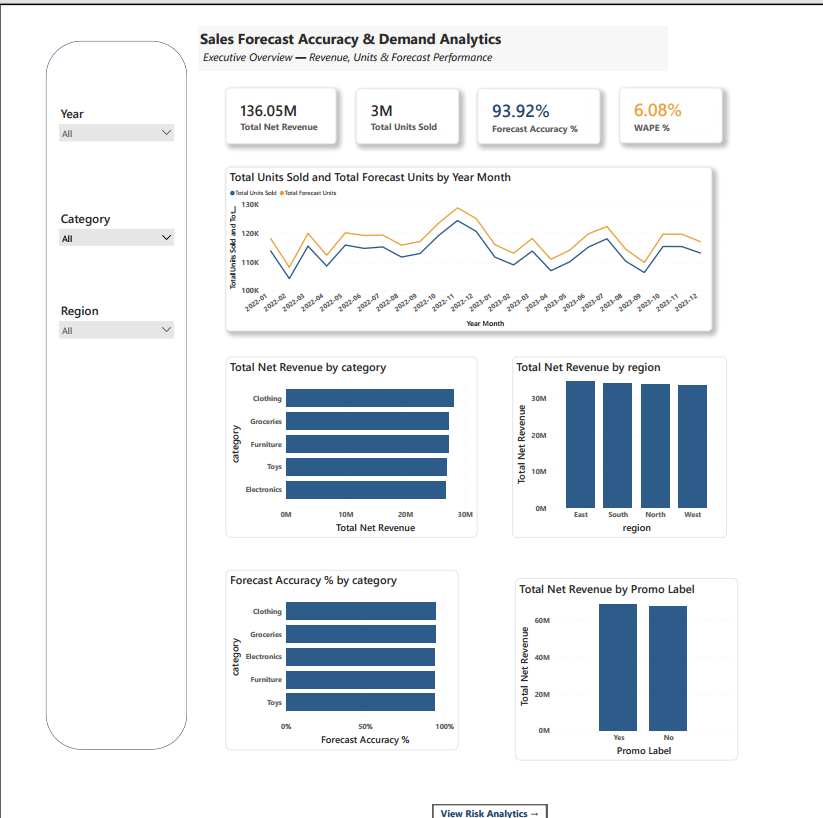

The dashboard page shown, as its layout file describes it:
{"tool":"powerbi","page":{"name":"Page 1","canvas":[2000,2000],"ordinal":0},"visuals":[{"type":"shape","box":[101.8,71.4,314.3,1575],"z":0},{"type":"lineChart","fields":{"Category":["Date Table.Year Month"],"Y":["Measure Table.Total Units Sold","Measure Table.Total Forecast Units"]},"box":[501.8,352.7,1081.8,365.5],"z":1000},{"type":"clusteredBarChart","fields":{"Y":["Measure Table.Total Net Revenue"],"Category":["Sales Forecast.category"]},"box":[501.8,774.5,560,401.8],"z":2000},{"type":"clusteredColumnChart","fields":{"Y":["Measure Table.Total Net Revenue"],"Category":["Sales Forecast.region"]},"box":[1139.3,775,476.8,401.8],"z":3000},{"type":"clusteredBarChart","fields":{"Category":["Sales Forecast.category"],"Y":["Measure Table.Forecast Accuracy %"]},"box":[501.8,1247.3,518.2,400],"z":4000},{"type":"clusteredColumnChart","fields":{"Y":["Measure Table.Total Net Revenue"],"Category":["Sales Forecast.Promo Label"]},"box":[1145.5,1265.5,496.4,405.5],"z":5000},{"type":"slicer","fields":{"Values":["Date Table.Year"]},"box":[121.8,210.9,274.5,110.9],"z":6000},{"type":"slicer","fields":{"Values":["Sales Forecast.category"]},"box":[121.8,441.8,274.5,94.5],"z":7000},{"type":"slicer","fields":{"Values":["Sales Forecast.region"]},"box":[121.8,647.3,274.5,141.8],"z":8000},{"type":"textbox","box":[440,40,1045.5,100],"z":9000},{"type":"cardVisual","fields":{"Data":["Measure Table.Total Units Sold"]},"box":[791.1,178.6,228.6,123.2],"z":10000},{"type":"cardVisual","fields":{"Data":["Measure Table.Forecast Accuracy %"]},"box":[1062.5,178.6,273.2,123.2],"z":11000},{"type":"cardVisual","fields":{"Data":["Measure Table.WAPE %"]},"box":[1378.6,176.8,228.6,123.2],"z":12000},{"type":"cardVisual","fields":{"Data":["Measure Table.Total Net Revenue"]},"box":[501.8,176.8,246.4,125],"z":13000},{"type":"actionButton","title":"View Risk Analytics →","box":[962.1,1767.2,255.2,39.7],"z":13001}]}

Visuals, with their boxes in screenshot pixels (x1, y1, x2, y2), scaled from the page's 2000x2000 canvas onto the 823x818 screenshot:
shape: left=42, top=29, right=171, bottom=673
lineChart - Date Table.Year Month x Measure Table.Total Units Sold: left=206, top=144, right=652, bottom=294
clusteredBarChart - Measure Table.Total Net Revenue x Sales Forecast.category: left=206, top=317, right=437, bottom=481
clusteredColumnChart - Measure Table.Total Net Revenue x Sales Forecast.region: left=469, top=317, right=665, bottom=481
clusteredBarChart - Sales Forecast.category x Measure Table.Forecast Accuracy %: left=206, top=510, right=420, bottom=674
clusteredColumnChart - Measure Table.Total Net Revenue x Sales Forecast.Promo Label: left=471, top=518, right=676, bottom=683
slicer - Date Table.Year: left=50, top=86, right=163, bottom=132
slicer - Sales Forecast.category: left=50, top=181, right=163, bottom=219
slicer - Sales Forecast.region: left=50, top=265, right=163, bottom=323
textbox: left=181, top=16, right=611, bottom=57
cardVisual - Measure Table.Total Units Sold: left=326, top=73, right=420, bottom=123
cardVisual - Measure Table.Forecast Accuracy %: left=437, top=73, right=550, bottom=123
cardVisual - Measure Table.WAPE %: left=567, top=72, right=661, bottom=123
cardVisual - Measure Table.Total Net Revenue: left=206, top=72, right=308, bottom=123
"View Risk Analytics →" actionButton: left=396, top=723, right=501, bottom=739
